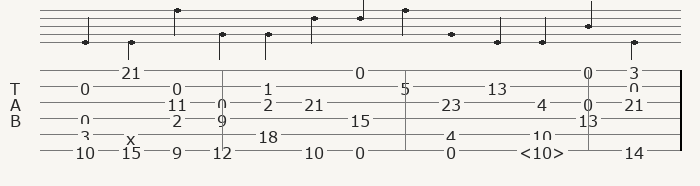0: (80, 110, 94, 126), (80, 78, 94, 94), (172, 78, 186, 94), (217, 94, 231, 110), (355, 142, 369, 158), (355, 62, 369, 78), (446, 142, 460, 158), (583, 62, 597, 78), (583, 94, 597, 110), (629, 78, 643, 94)
1: (263, 78, 277, 94)
10: (75, 142, 99, 158), (304, 142, 328, 158), (532, 126, 556, 142)
11: (167, 94, 191, 110)
12: (212, 142, 236, 158)
13: (487, 78, 511, 94), (578, 110, 602, 126)
14: (624, 142, 648, 158)
15: (121, 142, 145, 158), (350, 110, 374, 126)
18: (258, 126, 282, 142)
2: (172, 110, 186, 126), (263, 94, 277, 110)
21: (121, 62, 145, 78), (304, 94, 328, 110), (624, 94, 648, 110)
23: (441, 94, 465, 110)
3: (80, 126, 94, 142), (629, 62, 643, 78)
4: (446, 126, 460, 142), (537, 94, 551, 110)
5: (400, 78, 414, 94)
9: (172, 142, 186, 158), (217, 110, 231, 126)
harmonic: (519, 142, 569, 158)
x: (126, 128, 139, 141)
